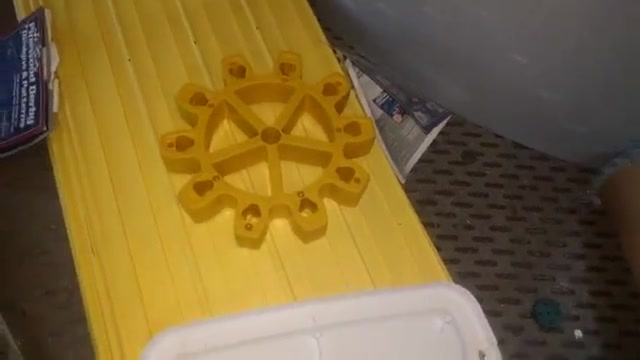gear: (153, 48, 391, 260)
